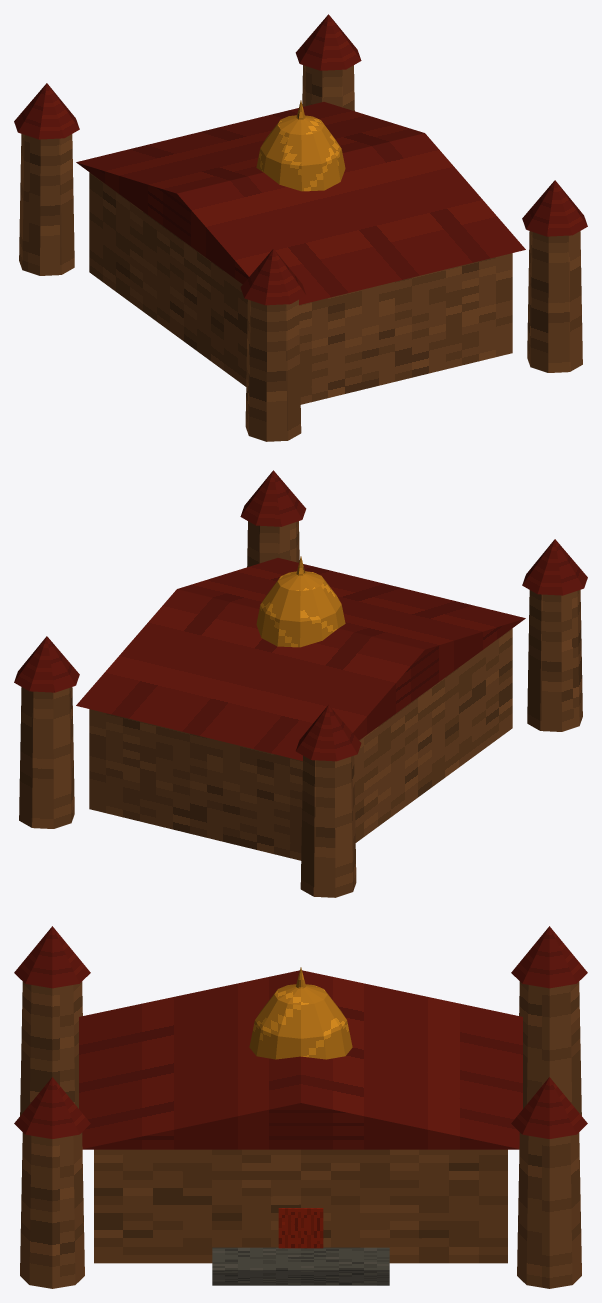
The model's file is palacio.glb.
The picture shows the model from 3 angles, top to bottom: view 1: azimuth 30°, elevation 25°; view 2: azimuth 150°, elevation 25°; view 3: azimuth 270°, elevation 25°; orthographic projection. The views are drawn at different scales.
Parts seen in each view (by area): view 1: tejado, cuerpo, torres, chapiteles, cupula; view 2: tejado, cuerpo, torres, chapiteles, cupula; view 3: tejado, cuerpo, torres, chapiteles, escalinata, cupula, puerta.
Boxes of the visible parts, x1,y1,x2,y2 form: tejado: [76, 102, 525, 304]; cuerpo: [89, 172, 512, 404]; torres: [19, 65, 582, 441]; chapiteles: [14, 14, 587, 305]; cupula: [256, 100, 345, 191]; tejado: [76, 558, 525, 760]; cuerpo: [89, 628, 512, 860]; torres: [19, 521, 582, 897]; chapiteles: [14, 470, 587, 761]; cupula: [256, 556, 345, 647]; tejado: [79, 970, 522, 1149]; cuerpo: [94, 1149, 507, 1263]; torres: [20, 981, 581, 1288]; chapiteles: [14, 926, 587, 1138]; escalinata: [212, 1247, 389, 1285]; cupula: [249, 967, 352, 1059]; puerta: [278, 1208, 323, 1248].
Bounding box in the file's own units: 30 × 18 × 40.
1 material, 1 textured.
